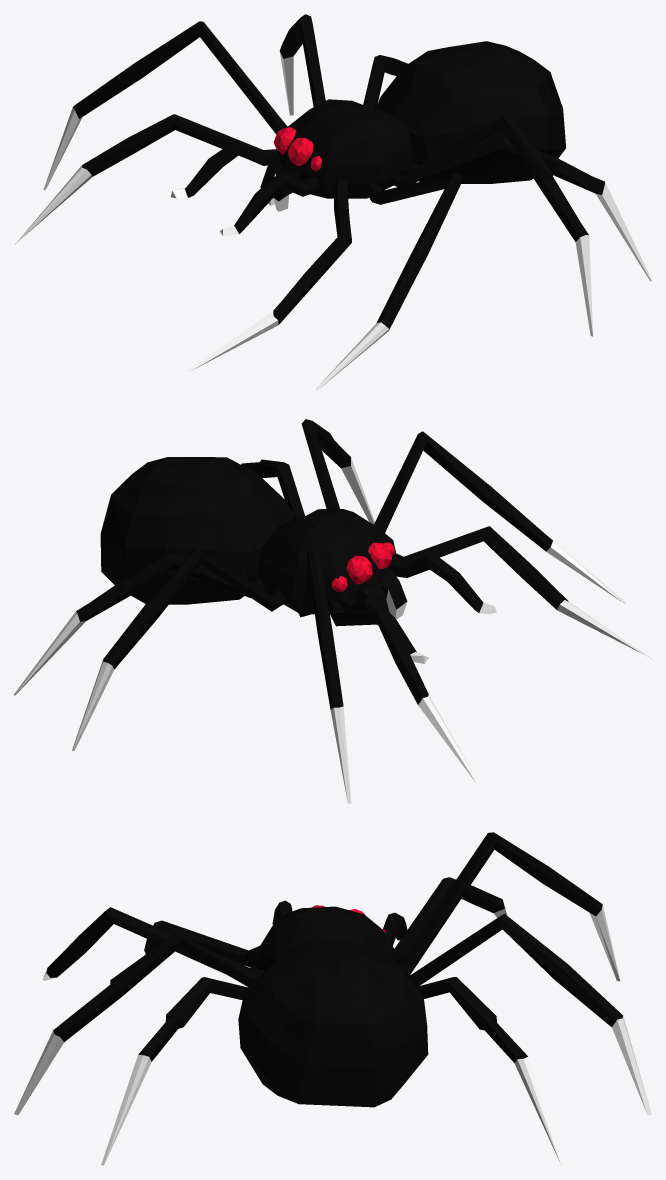
File: spiderIdle6.obj
3 renders of one model, top to bottom at view 1: azimuth 30°, elevation 25°; view 2: azimuth 150°, elevation 25°; view 3: azimuth 270°, elevation 25°, orthographic. The views are drawn at different scales.
Visible parts, largest first — view 1: Cube.003_Cube.004; view 2: Cube.003_Cube.004; view 3: Cube.003_Cube.004.
Boxes of the visible parts, x1,y1,x2,y2 form: Cube.003_Cube.004: (15,14,651,390); Cube.003_Cube.004: (14,419,651,803); Cube.003_Cube.004: (14,832,651,1165).
Bounding box in the file's own units: 29.48 × 11.81 × 34.51.
